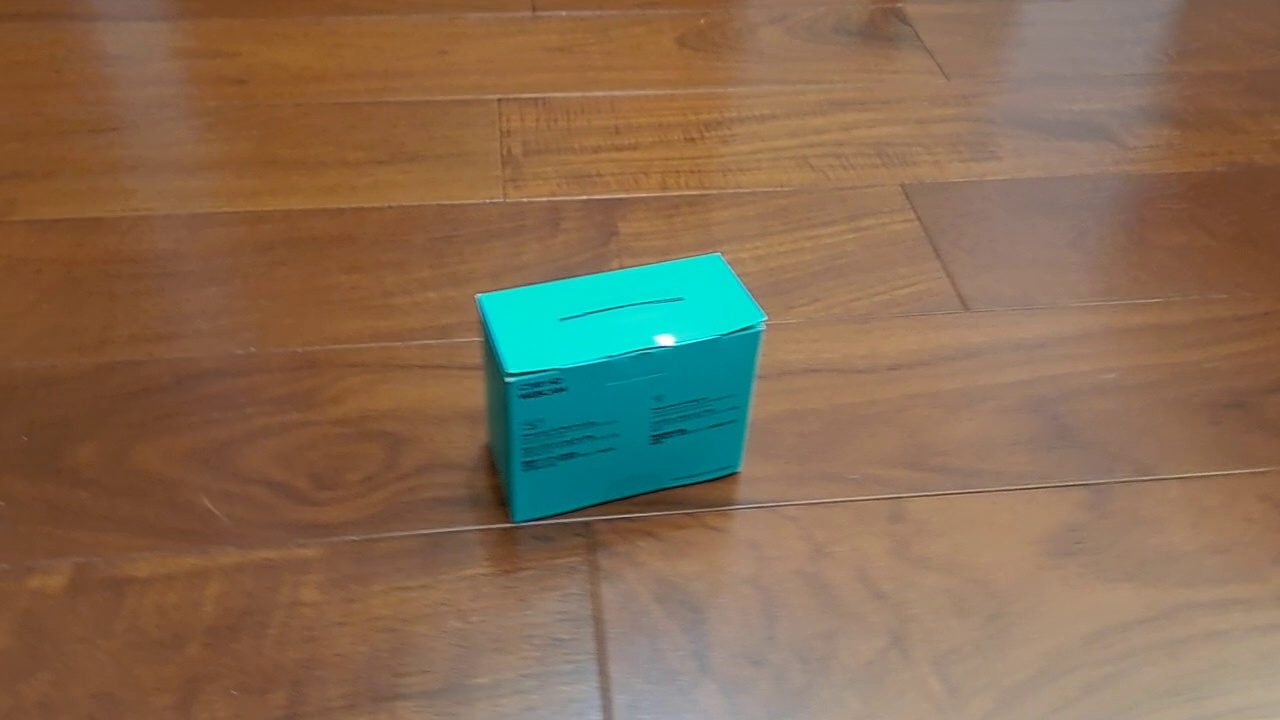webcam: (473, 251, 770, 526)
